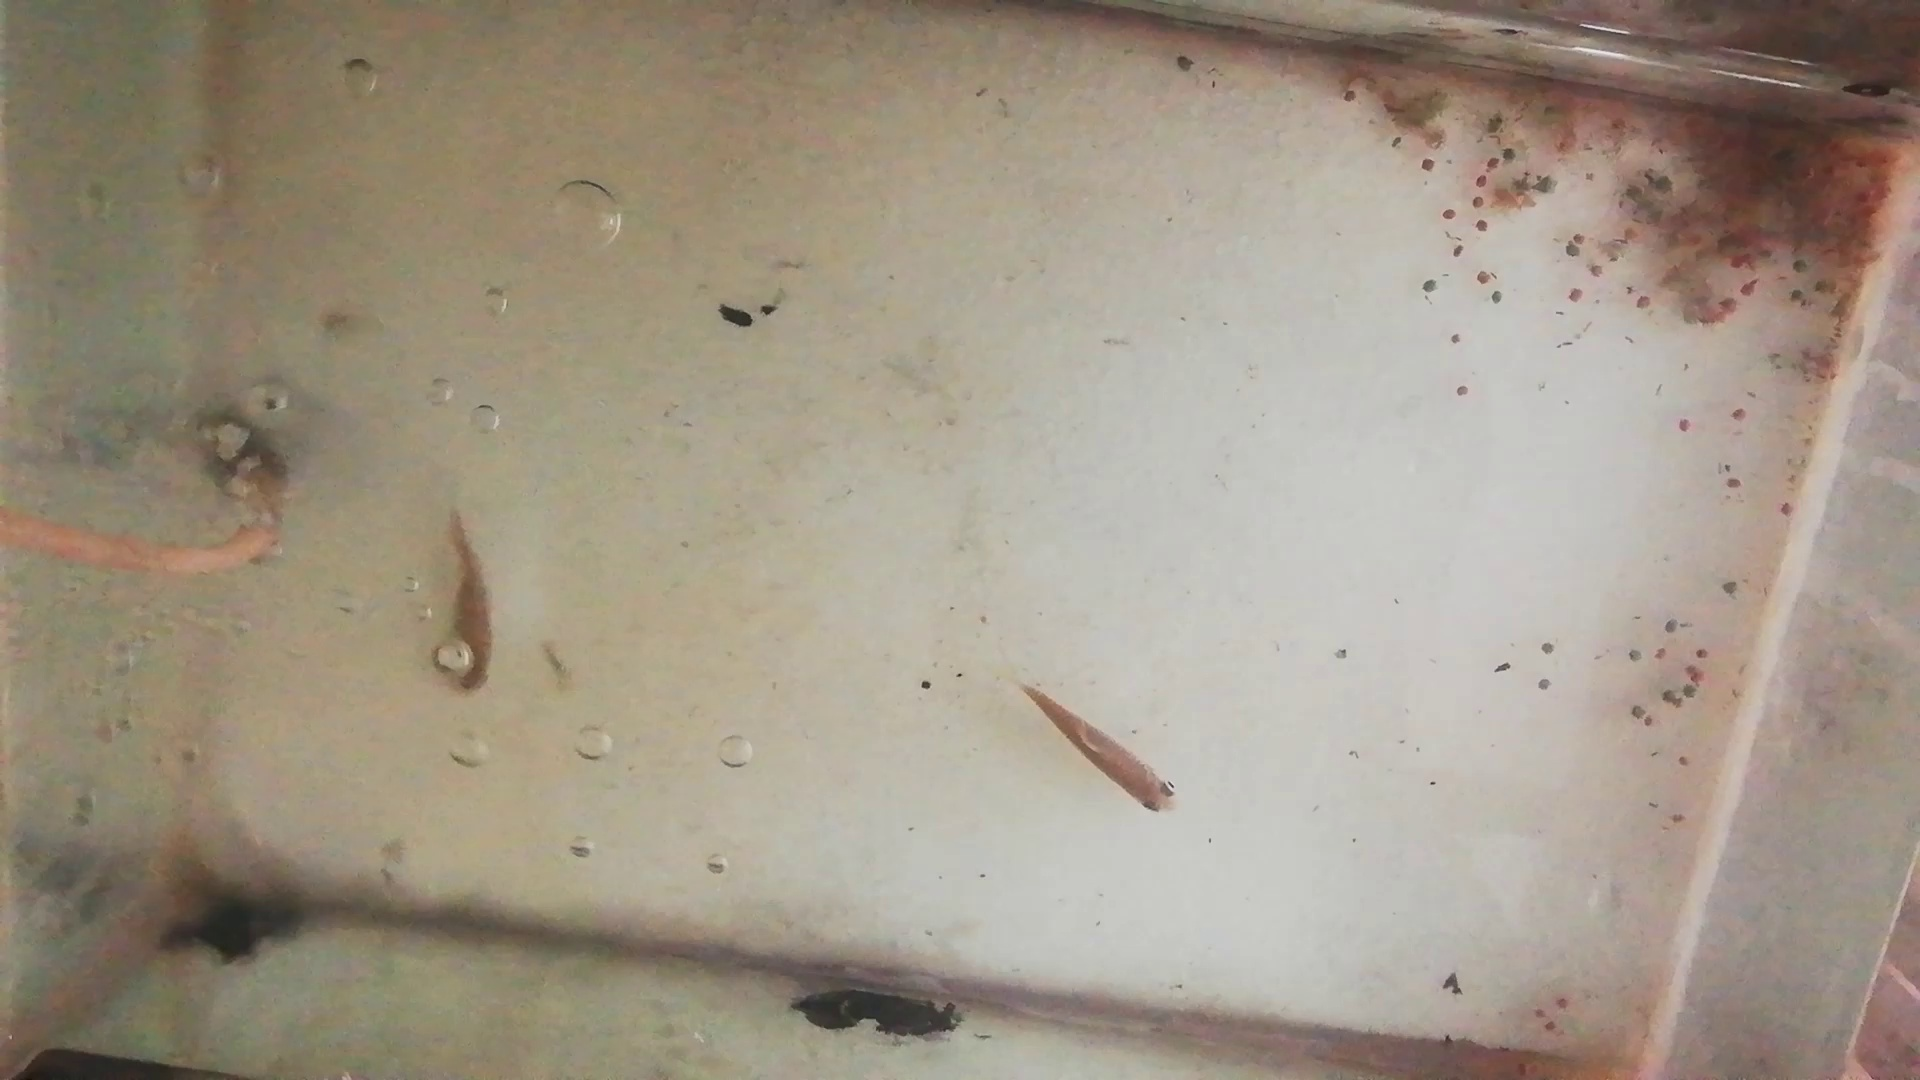fish: (1017, 686, 1185, 819), (440, 501, 498, 694)
